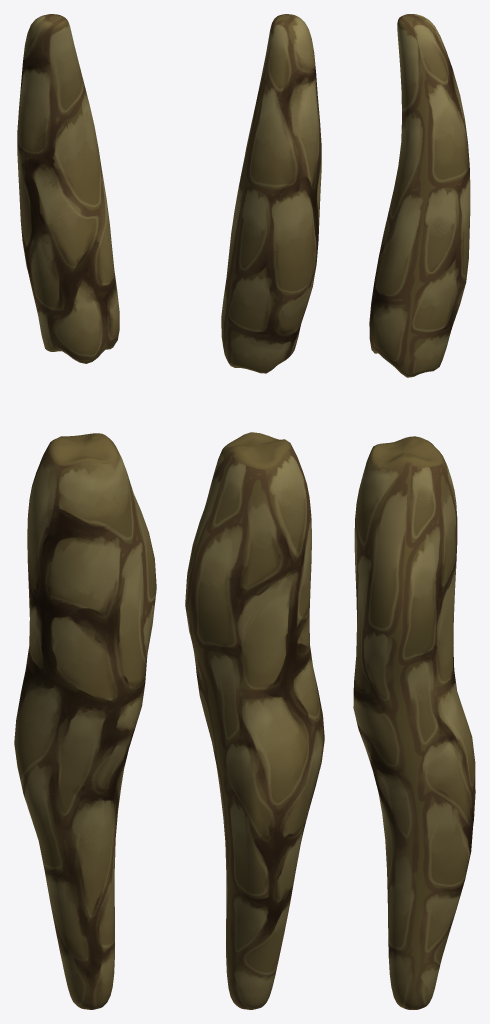
File: breakableTwig_Branch.fbx
The picture shows the model from 3 angles, left to right: view 1: azimuth 30°, elevation 25°; view 2: azimuth 210°, elevation 25°; view 3: azimuth 270°, elevation 25°; orthographic projection. The views are drawn at different scales.
Visible parts, largest first — view 1: polySurface12; view 2: polySurface12; view 3: polySurface12.
Part boxes in pixels (x1,y1,x2,y2): polySurface12: [14, 14, 156, 1009]; polySurface12: [185, 14, 324, 1009]; polySurface12: [353, 14, 475, 1009].
Bounding box in the file's own units: 135 × 1084 × 124.
Materials: 1 (1 with a texture image).
